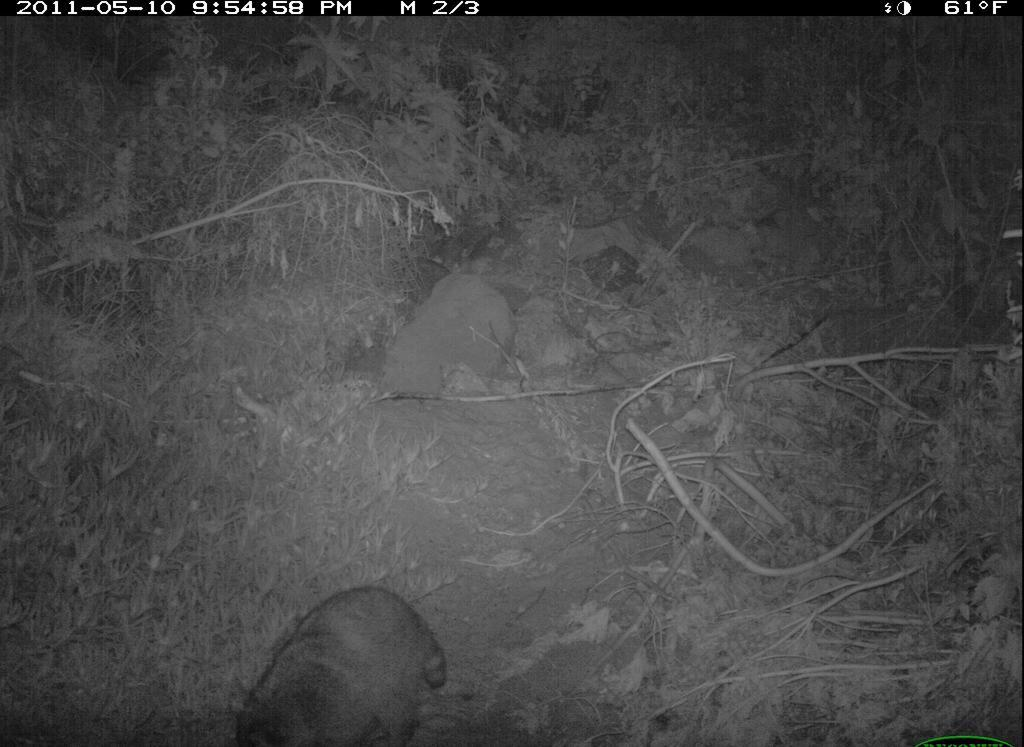raccoon: (224, 581, 457, 747)
